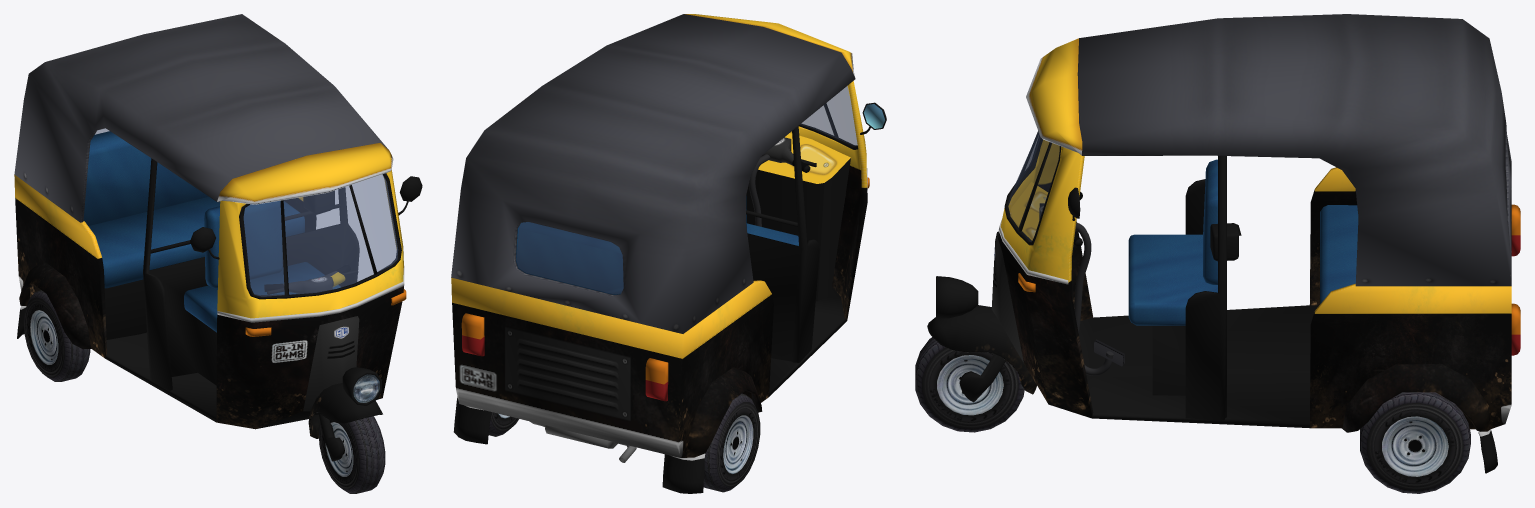
Rendered from rickshaw_with_brake.glb.
3 views of the same model, side by side, from view 1: azimuth 30°, elevation 25°; view 2: azimuth 150°, elevation 25°; view 3: azimuth 270°, elevation 25° (orthographic). The views are drawn at different scales.
Visible parts, largest first — view 1: Plane.001_3.002, Plane_2.002, Cylinder_4.002, Plane.003_10.002, Plane.005_12.002, rickshaw_wheel_front, rickshaw_wheel_rear_L, Plane.004_11.002, Plane.010_18.002, Cylinder.002_6.002, Sphere_7.002, Plane.006_13.002 (+3 smaller); view 2: Plane.001_3.002, Plane_2.002, Cylinder_4.002, Plane.002_8.002, Plane.003_10.002, rickshaw_wheel_rear_L, Plane.004_11.002, Plane.012_21.002, Plane.006_13.002, Plane.005_12.002, Plane.008_15.002, Cylinder.003_9.002 (+2 smaller); view 3: Plane.001_3.002, Plane_2.002, Cylinder_4.002, rickshaw_wheel_rear_R, rickshaw_wheel_front, Plane.004_11.002, Plane.005_12.002, Cylinder.002_6.002, Plane.003_10.002, Sphere_7.002, Plane.006_13.002, Plane.010_18.002 (+3 smaller).
Part boxes in pixels (x1,y1,x2,y2): Plane.001_3.002: (14, 14, 388, 222); Plane_2.002: (14, 170, 403, 429); Cylinder_4.002: (83, 131, 359, 390); Plane.003_10.002: (95, 128, 398, 296); Plane.005_12.002: (217, 143, 393, 204); rickshaw_wheel_front: (318, 416, 385, 493); rickshaw_wheel_rear_L: (23, 290, 90, 381); Plane.004_11.002: (19, 262, 90, 349); Plane.010_18.002: (239, 173, 401, 299); Cylinder.002_6.002: (308, 383, 382, 438); Sphere_7.002: (315, 367, 381, 461); Plane.006_13.002: (190, 176, 422, 336); Plane.001_3.002: (451, 14, 855, 333); Plane_2.002: (451, 81, 867, 457); Cylinder_4.002: (516, 126, 819, 362); Plane.002_8.002: (746, 133, 850, 301); Plane.003_10.002: (516, 86, 857, 294); rickshaw_wheel_rear_L: (703, 393, 760, 492); Plane.004_11.002: (687, 367, 762, 457); Plane.012_21.002: (453, 396, 705, 493); Plane.006_13.002: (461, 102, 886, 401); Plane.005_12.002: (685, 14, 855, 77); Plane.008_15.002: (529, 421, 636, 462); Cylinder.003_9.002: (761, 137, 816, 172); Plane.001_3.002: (1077, 14, 1511, 286); Plane_2.002: (991, 139, 1511, 429); Cylinder_4.002: (1128, 156, 1358, 420); rickshaw_wheel_rear_R: (1360, 392, 1470, 493); rickshaw_wheel_front: (915, 337, 1024, 432); Plane.004_11.002: (1342, 364, 1491, 432); Plane.005_12.002: (1026, 38, 1082, 155); Cylinder.002_6.002: (927, 305, 1036, 394); Plane.003_10.002: (1008, 132, 1059, 241); Sphere_7.002: (936, 276, 1011, 402); Plane.006_13.002: (1018, 187, 1520, 355); Plane.010_18.002: (1004, 131, 1061, 245).
Size of the model in its own units: 1.64 by 1.98 by 2.97.
Materials: 6 (3 with a texture image).
